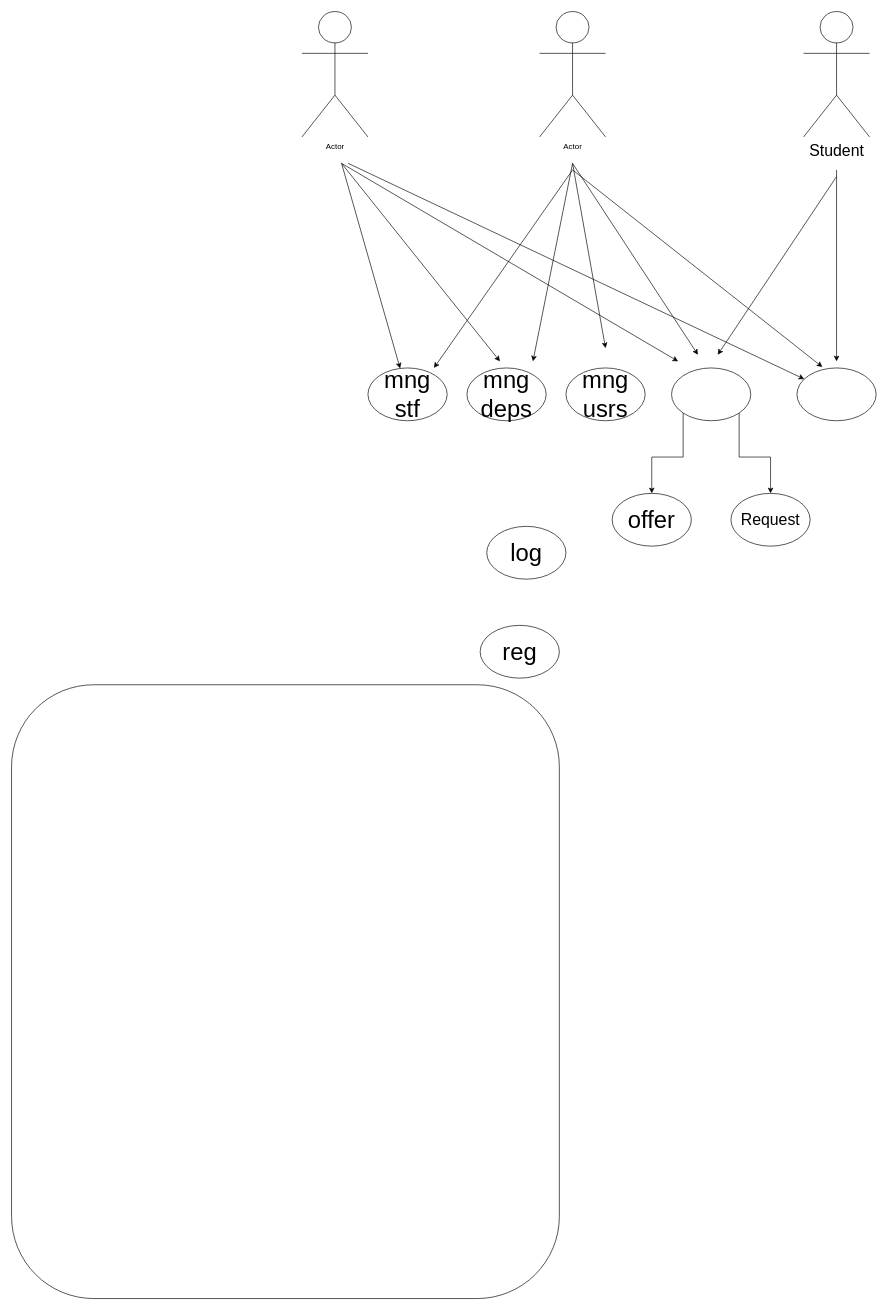
The diagram is 888 pixels wide and 1310 high, and some of its shapes have lost their labels. The shapes that lost their labels are listed below. From the top down, each one's centre as x and y in pixels, then its label:
point (711, 394): book ex
point (836, 394): browse
